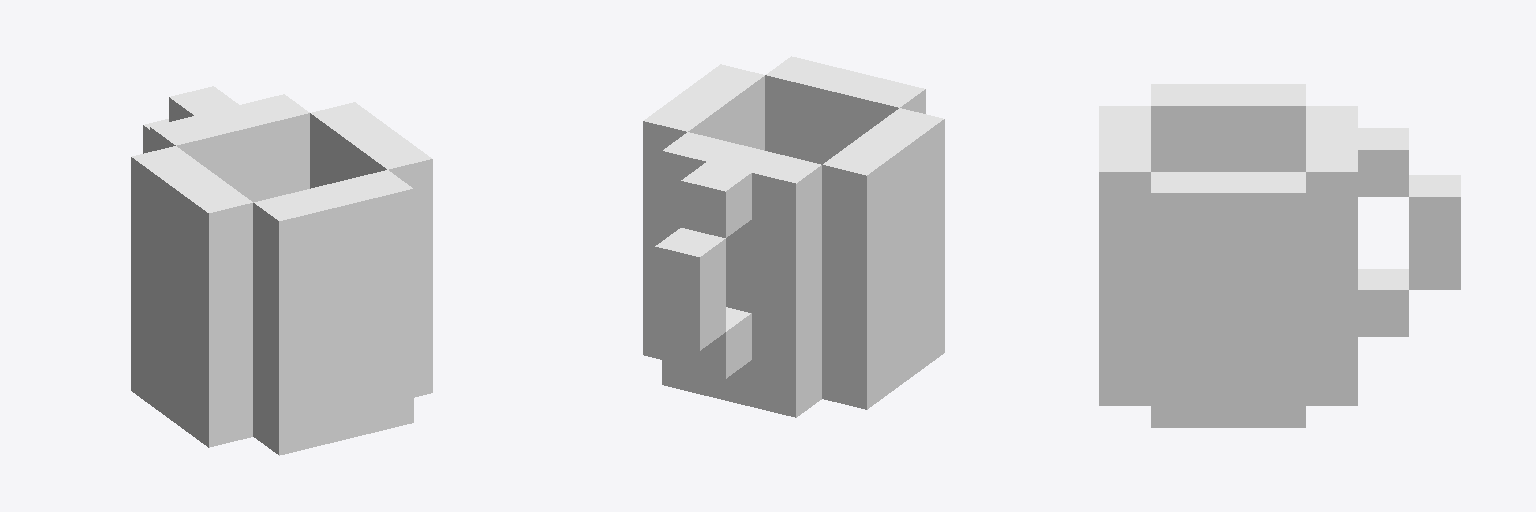
Rendered from tasse.obj.
The picture shows the model from 3 angles: view 1: azimuth 30°, elevation 25°; view 2: azimuth 150°, elevation 25°; view 3: azimuth 270°, elevation 25°; orthographic projection.
Visible parts, largest first — view 1: tasse; view 2: tasse; view 3: tasse.
Boxes of the visible parts, x1,y1,x2,y2 form: tasse: [131, 86, 432, 455]; tasse: [643, 56, 944, 417]; tasse: [1099, 84, 1460, 427].
Bounding box in the file's own units: 5 × 5 × 7.